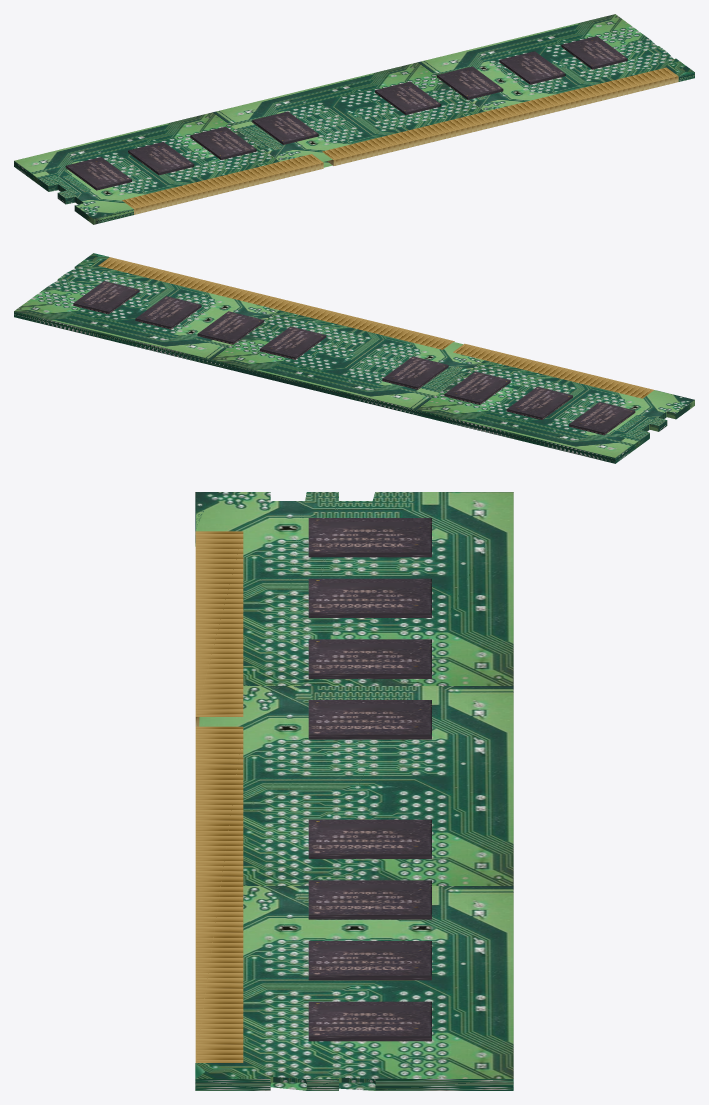
File: DIMM.fbx
3 renders of one model, top to bottom at view 1: azimuth 30°, elevation 25°; view 2: azimuth 150°, elevation 25°; view 3: azimuth 270°, elevation 25°, orthographic. The views are drawn at different scales.
Parts seen in each view (by area): view 1: Cube, Cube.002, Cube.003, Cube.001; view 2: Cube, Cube.002, Cube.001, Cube.003; view 3: Cube, Cube.002, Cube.001, Cube.003.
Boxes of the visible parts, x1,y1,x2,y2 form: Cube: (14, 14, 694, 224); Cube.002: (122, 67, 678, 214); Cube.003: (65, 111, 318, 190); Cube.001: (375, 36, 627, 114); Cube: (14, 253, 694, 463); Cube.002: (98, 257, 653, 398); Cube.001: (73, 281, 326, 359); Cube.003: (382, 356, 635, 435); Cube: (195, 492, 513, 1090); Cube.002: (195, 531, 243, 1062); Cube.001: (308, 819, 431, 1041); Cube.003: (308, 518, 431, 739).
Size of the model in its own units: 219 by 3.5 by 50.22.
3 materials, 3 textured.
